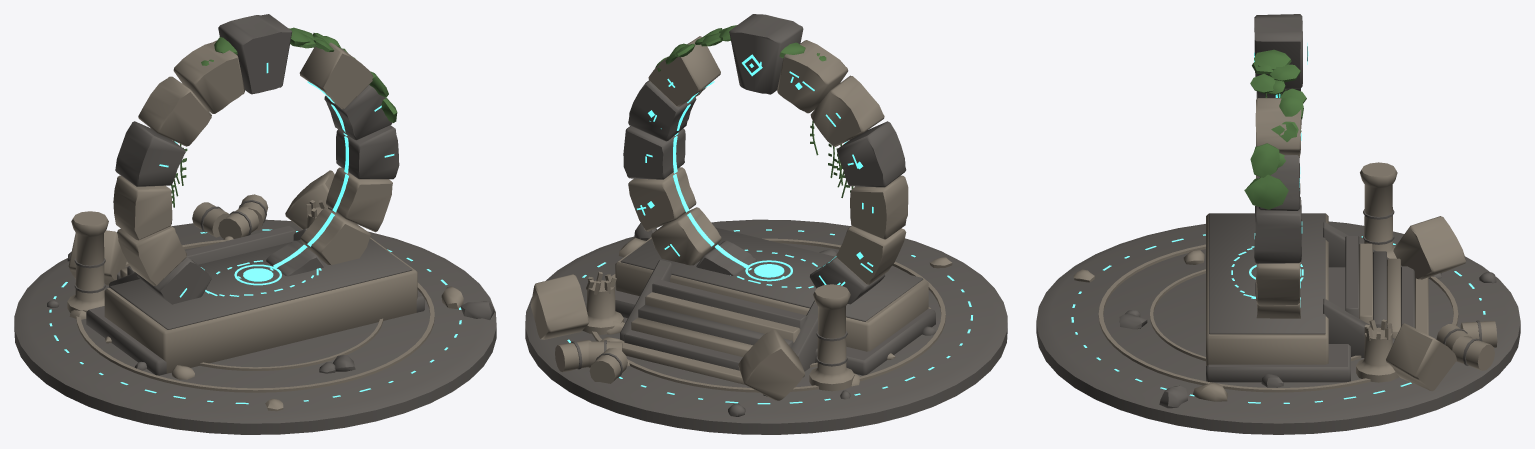
The model's file is ruin_arch_a.glb.
The picture shows the model from 3 angles, left to right: view 1: azimuth 30°, elevation 25°; view 2: azimuth 150°, elevation 25°; view 3: azimuth 270°, elevation 25°; orthographic projection.
Parts seen in each view (by area): view 1: Arch; view 2: Arch; view 3: Arch.
Boxes of the visible parts, box(x1,y1,x2,y2) form: Arch: box(14, 14, 496, 434); Arch: box(525, 14, 1007, 434); Arch: box(1036, 14, 1520, 434).
Bounding box in the file's own units: 17.4 × 12.2 × 17.4.
